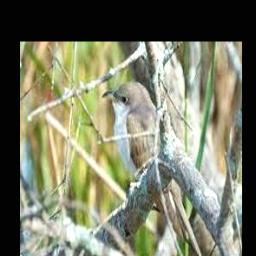Cuckoo: (102, 82, 198, 249)
